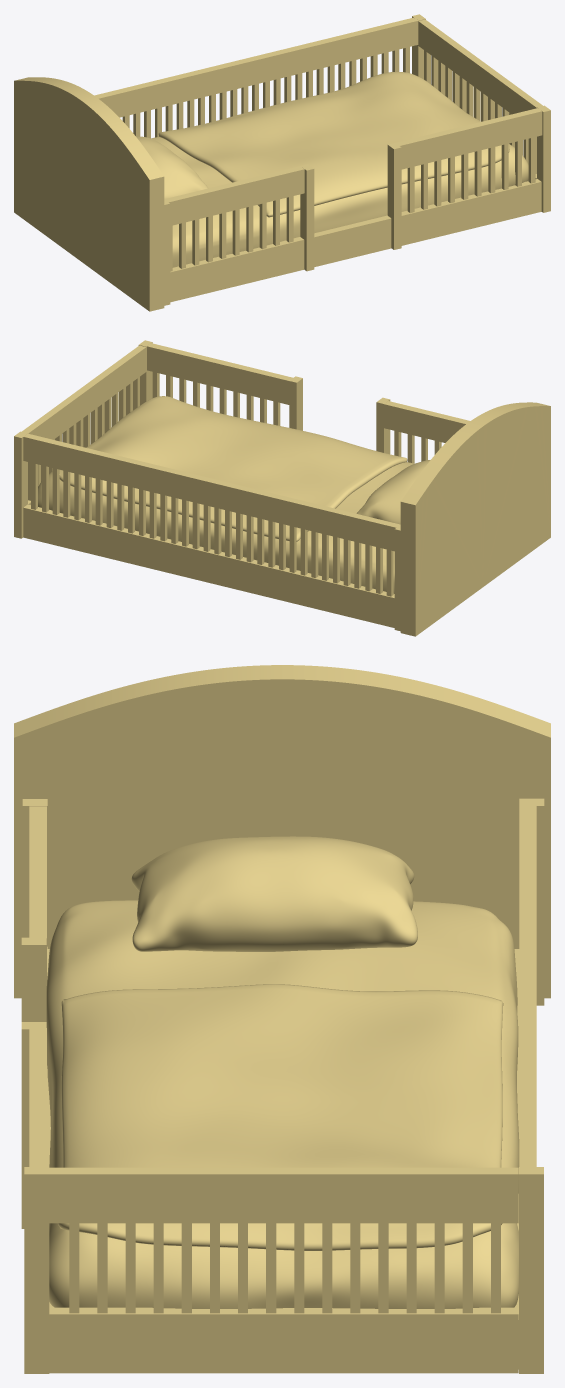
Rendered from Bed.fbx.
3 views of the same model, one above another, from view 1: azimuth 30°, elevation 25°; view 2: azimuth 150°, elevation 25°; view 3: azimuth 270°, elevation 25° (orthographic). The views are drawn at different scales.
Parts seen in each view (by area): view 1: Cube; view 2: Cube; view 3: Cube.
Part boxes in pixels (x1,y1,x2,y2): Cube: [14, 14, 550, 311]; Cube: [14, 340, 550, 636]; Cube: [14, 665, 550, 1373].
Bounding box in the file's own units: 1096 × 418 × 638.
